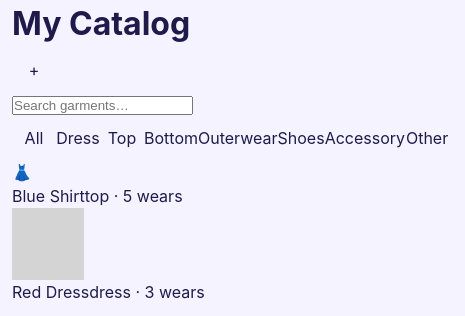
it: Catalog › clicking "Dress" filter shows only dress category garments
Expected: the text "Blue Shirt" is shown, [12,186,85,206]
Click "Dress" filter chip
Click the button "Dress" at x=78, y=138, box [56,116,100,160]
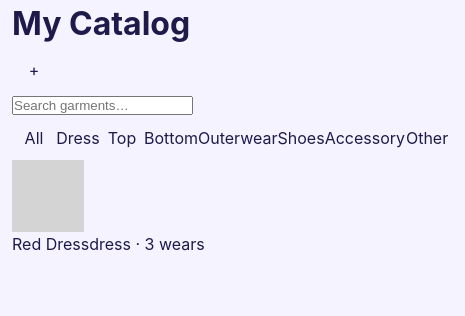
Expected: the text "Red Dress" is shown, [12,234,89,254]
Expected: the button "Blue Shirt" is gone
